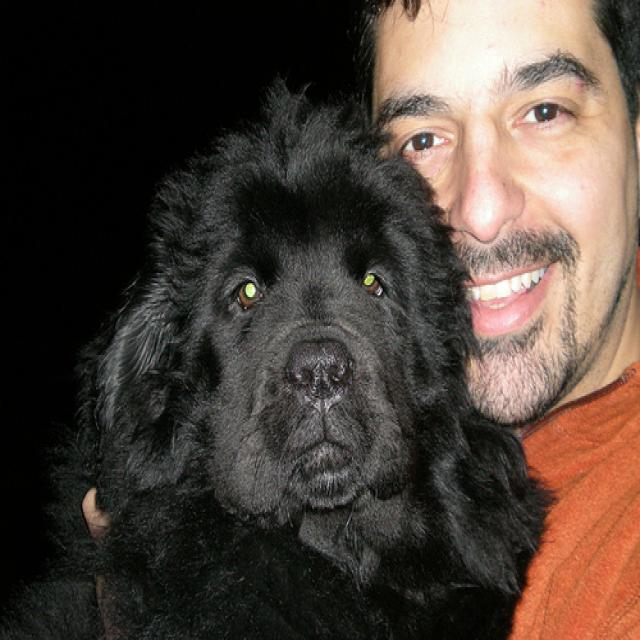dog-newfoundland: (12, 99, 548, 637)
